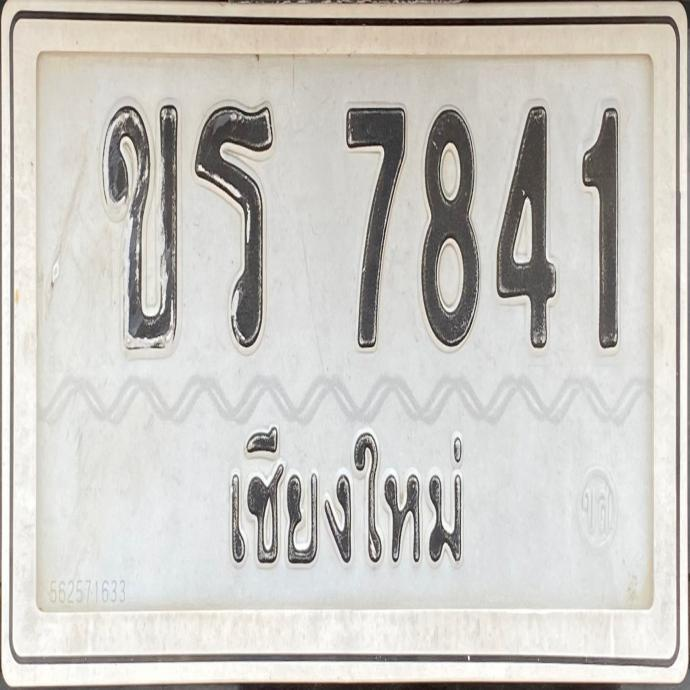1: (580, 102, 618, 350)
4: (495, 98, 556, 347)
7: (343, 101, 404, 349)
8: (419, 102, 479, 347)
A02: (103, 96, 178, 345)
A35: (191, 94, 276, 347)
CMI: (221, 422, 470, 585)
